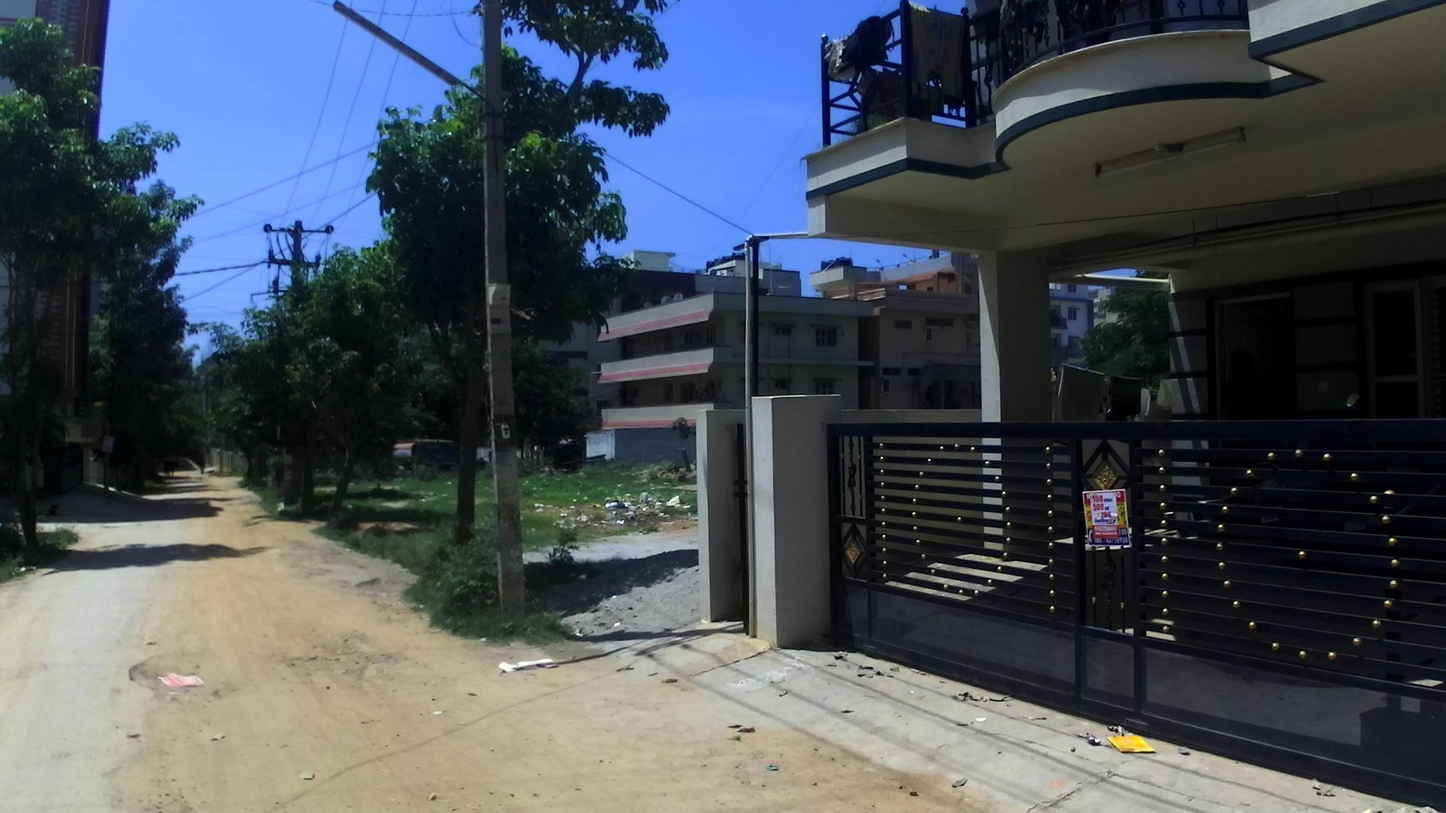streetlight: (331, 2, 508, 155)
